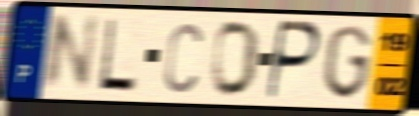C: (161, 20, 205, 95)
G: (321, 23, 374, 102)
L: (95, 16, 139, 95)
N: (38, 13, 102, 94)
O: (209, 18, 263, 100)
P: (263, 18, 324, 103)
